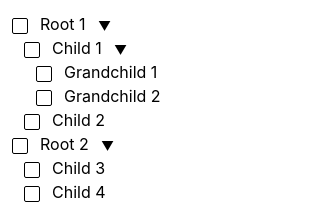
Test case: selection › selecting every child selects the parent
What coordinates should you click on to do the following:
click the checkbox next to "Child 3"
I would click on:
 (32, 170)
Its box is top-left (24, 162), bottom-right (40, 178).
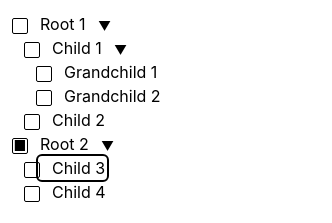
What coordinates should you click on to do the following:
click the checkbox next to "Child 4"
I would click on:
 (32, 194)
Its box is top-left (24, 186), bottom-right (40, 202).
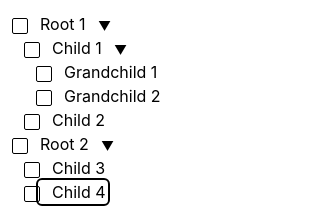
expect the 6th checkbox is checked: met, box top-left (12, 138), bottom-right (28, 154)
